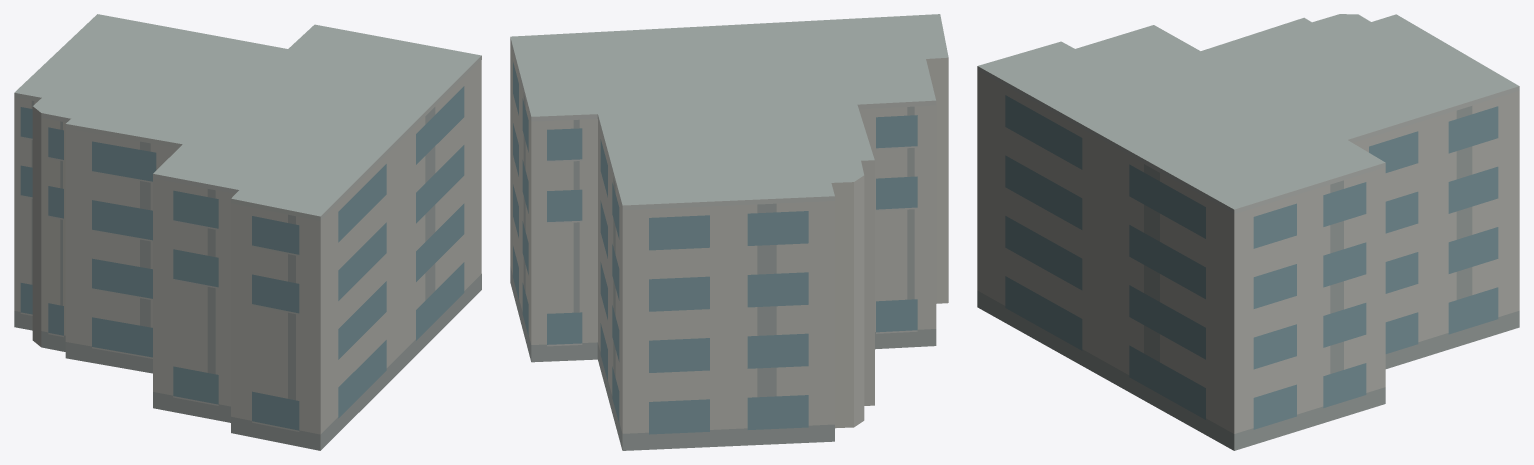
Rendered from residential-9c6dd4e1-b660-4672-af33-d828dc47dd08.glb.
3 renders of one model, left to right at view 1: azimuth 30°, elevation 25°; view 2: azimuth 150°, elevation 25°; view 3: azimuth 270°, elevation 25°, orthographic. The views are drawn at different scales.
Visible parts, largest first — view 1: residential-9c6dd4e1-b660-4672-af33-d828dc47dd08.tmp; view 2: residential-9c6dd4e1-b660-4672-af33-d828dc47dd08.tmp; view 3: residential-9c6dd4e1-b660-4672-af33-d828dc47dd08.tmp.
Boxes of the visible parts, x1,y1,x2,y2 form: residential-9c6dd4e1-b660-4672-af33-d828dc47dd08.tmp: [14, 14, 481, 450]; residential-9c6dd4e1-b660-4672-af33-d828dc47dd08.tmp: [510, 14, 948, 450]; residential-9c6dd4e1-b660-4672-af33-d828dc47dd08.tmp: [977, 14, 1519, 450].
Bounding box in the file's own units: 21.21 × 12.2 × 24.85.
